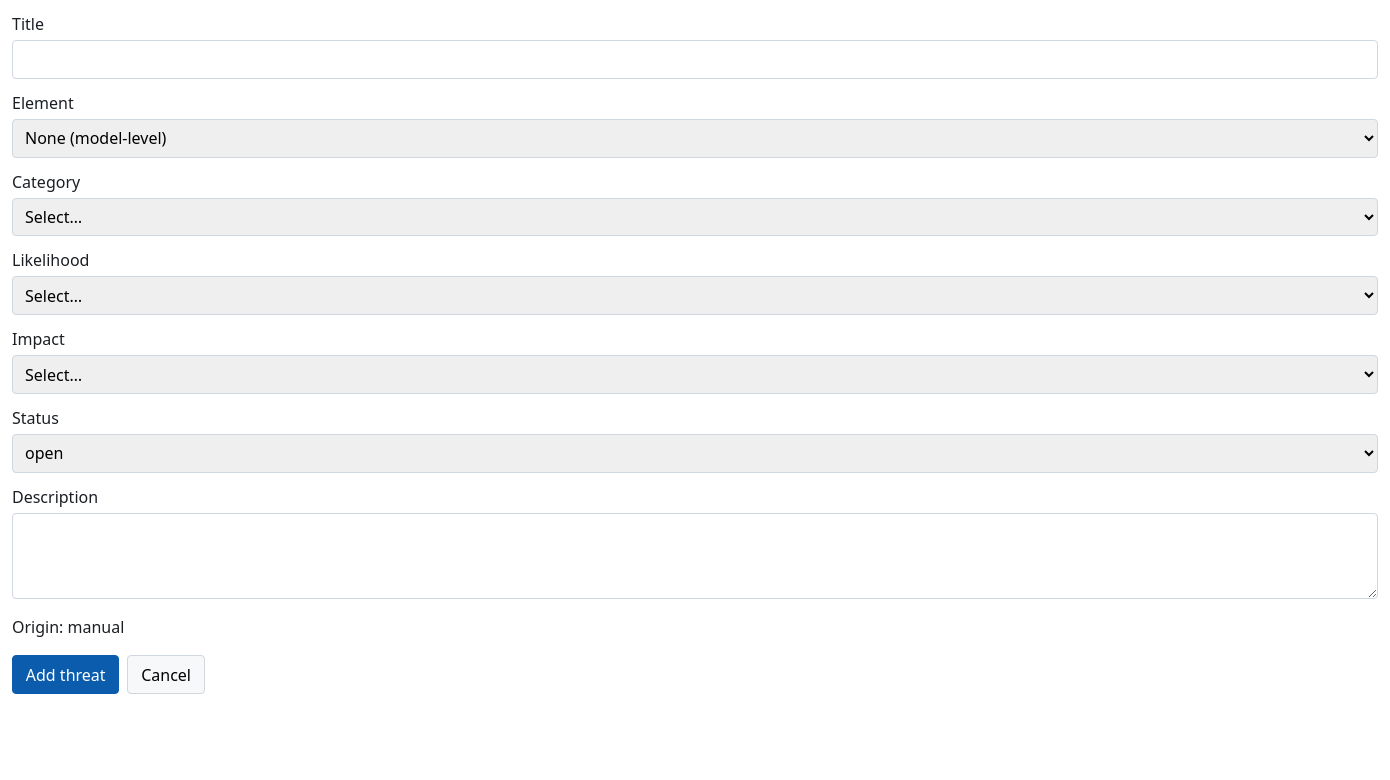
Test: a server rejection that maps to a field › ThreatForm announces a server field message by its label, not its field name
Type "x" into the field labelled "Title" at point(695, 59), box [12,40,1378,79]
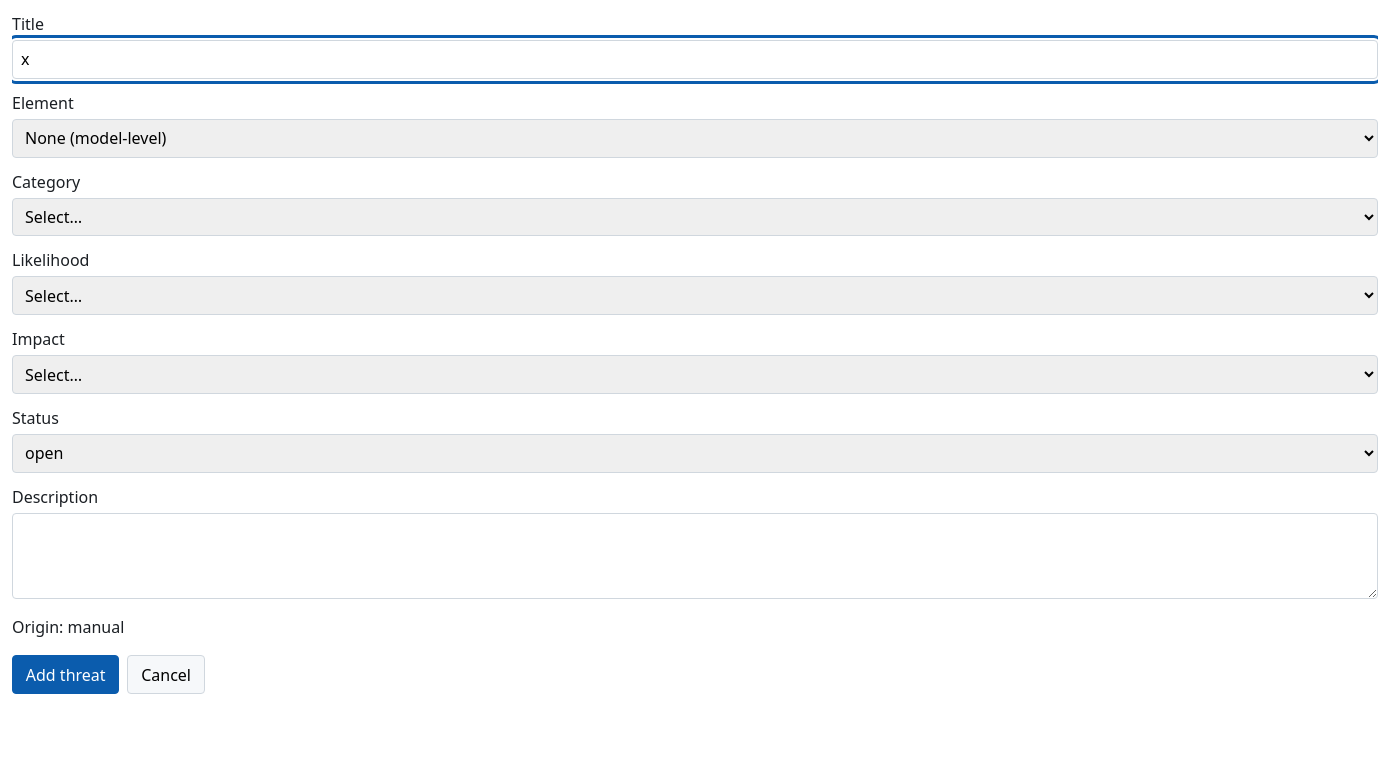
Select "Spoofing" in the dropdown labelled "Category" at point(695, 217), box [12,198,1378,236]
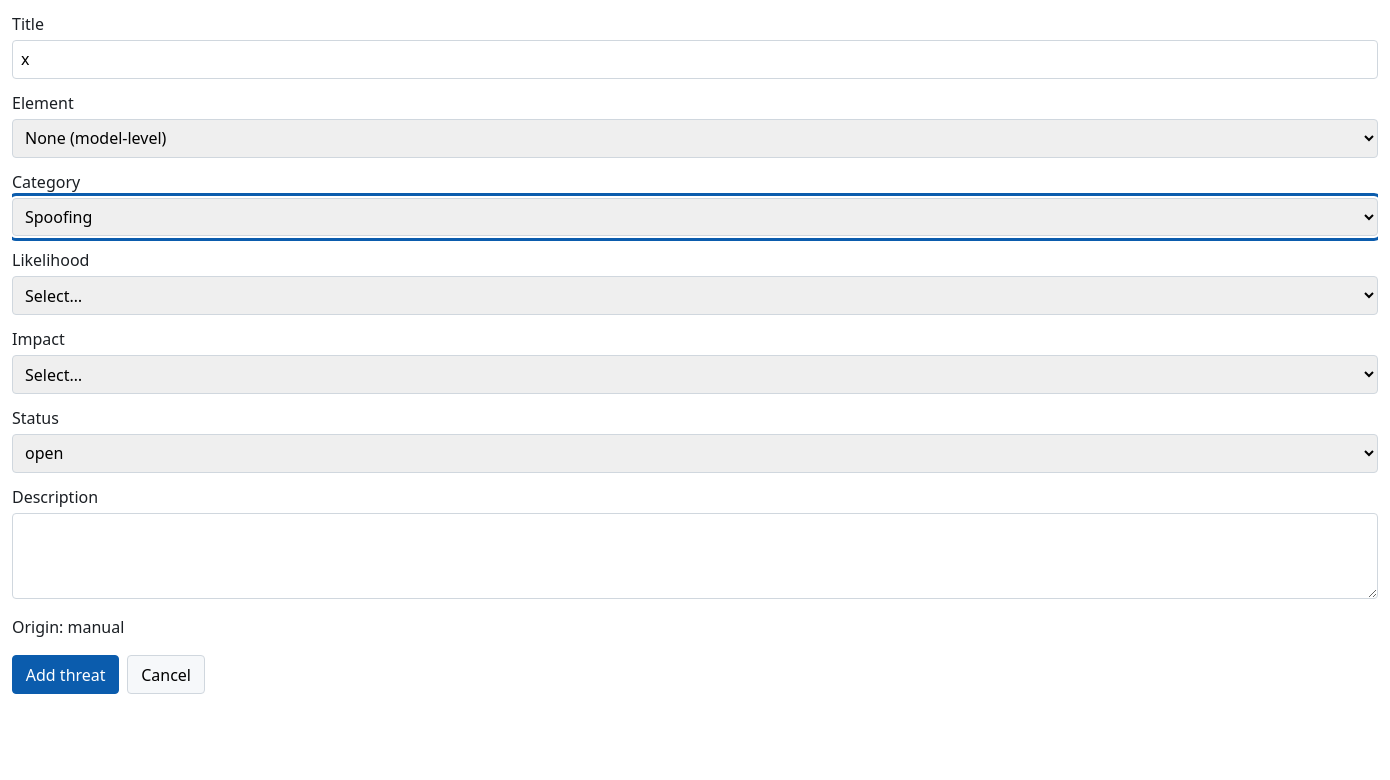
Select "Low" in the dropdown labelled "Likelihood" at point(695, 296), box [12,276,1378,315]
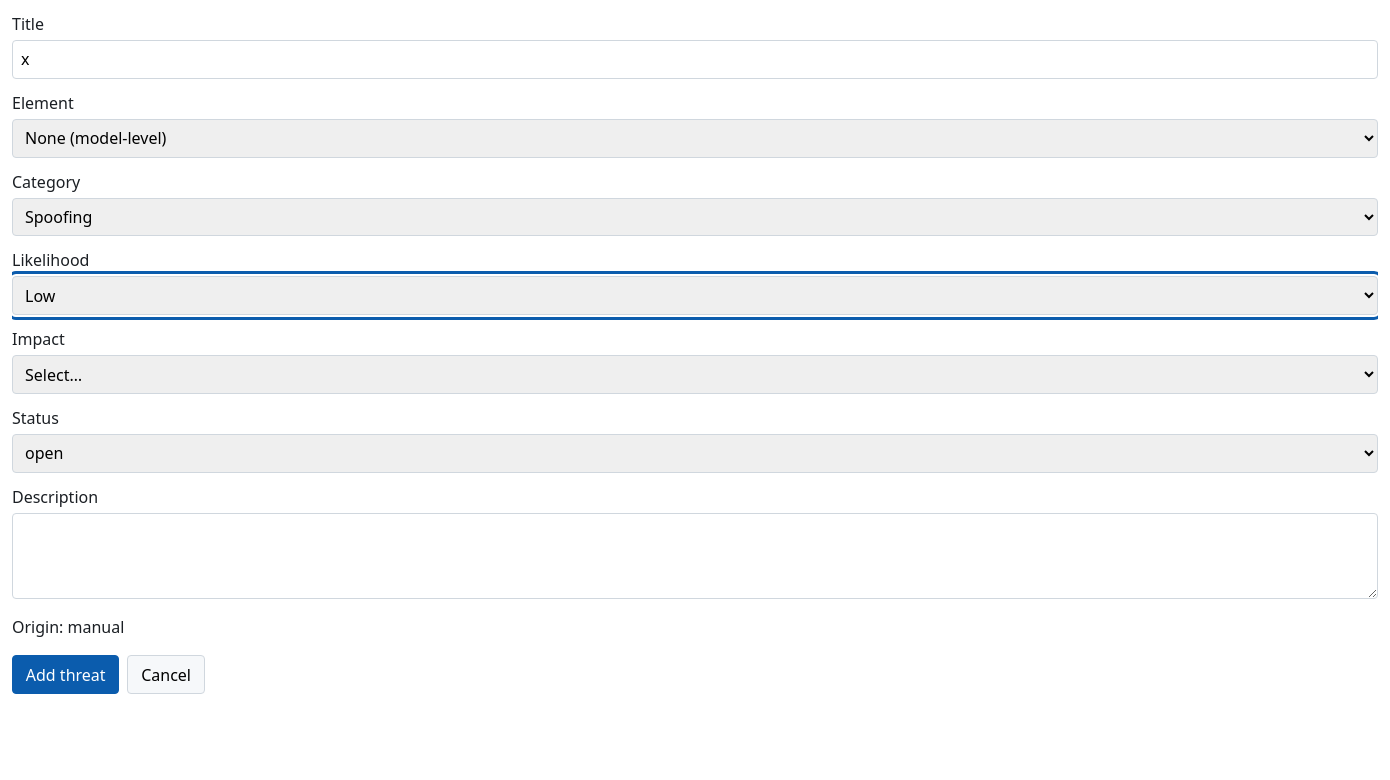
Select "Low" in the dropdown labelled "Impact" at point(695, 374), box [12,355,1378,394]
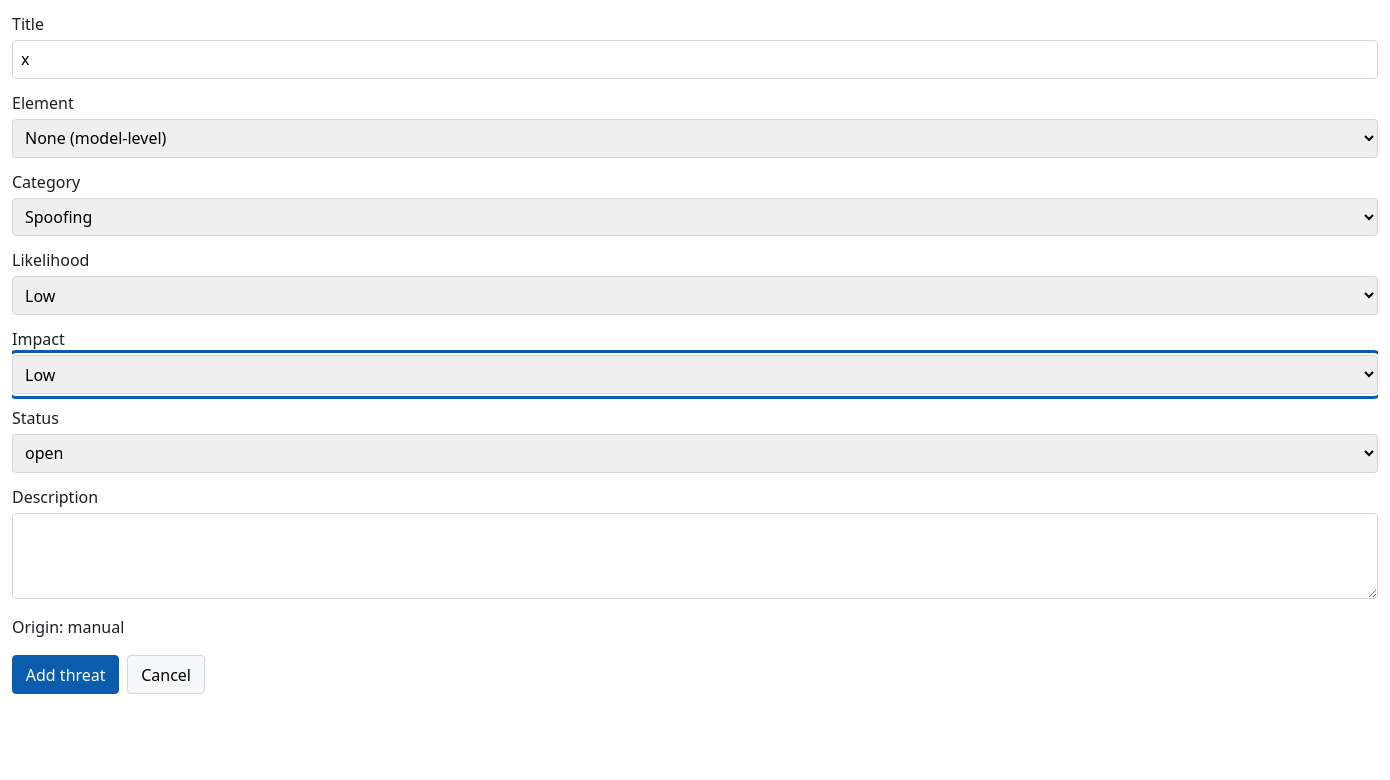
Click the button "Add threat" at point(66, 675), box [12,656,119,694]
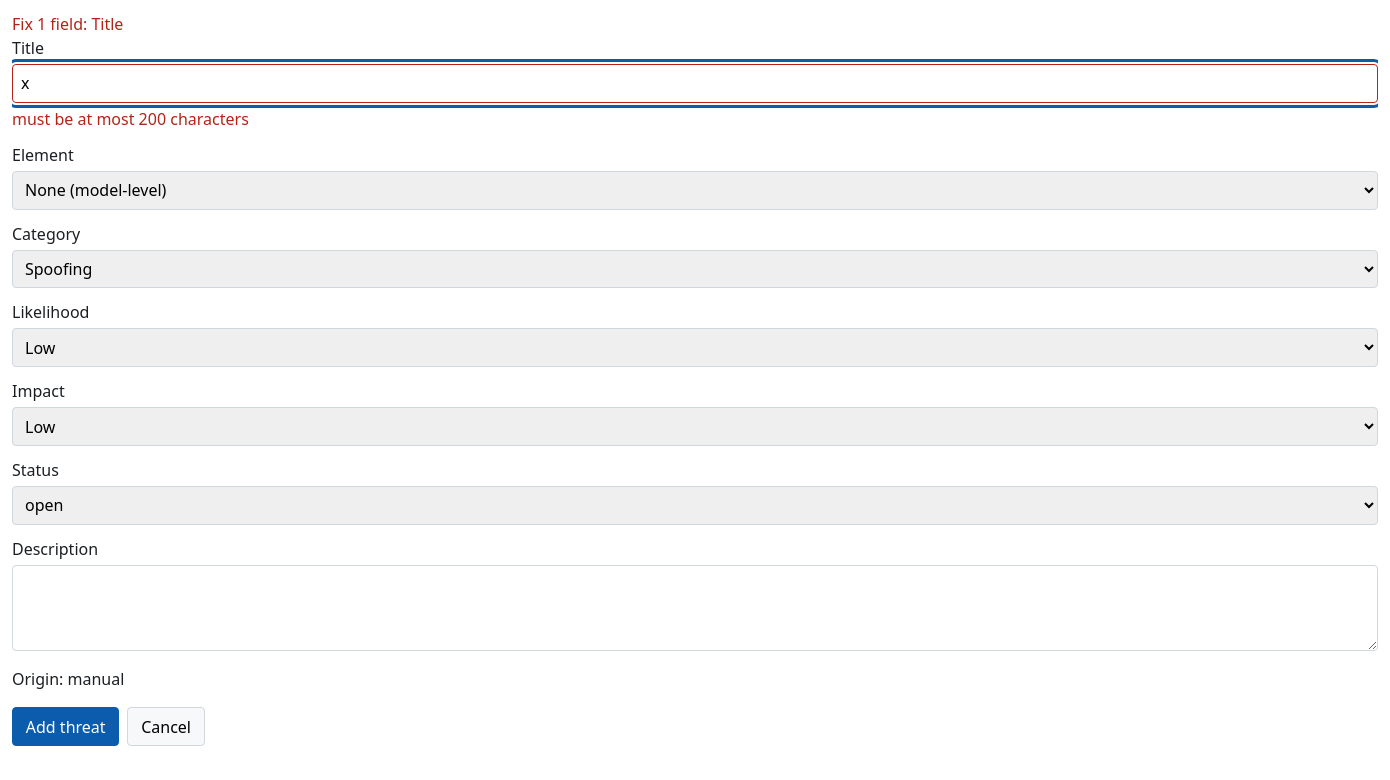
Now the message reads "Fix 1 field: Title", box [12,13,123,35]
